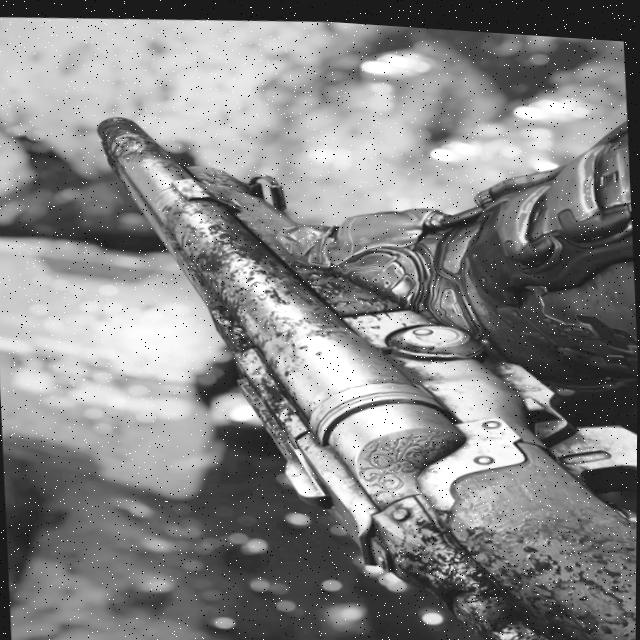firearm: (88, 84, 640, 640)
